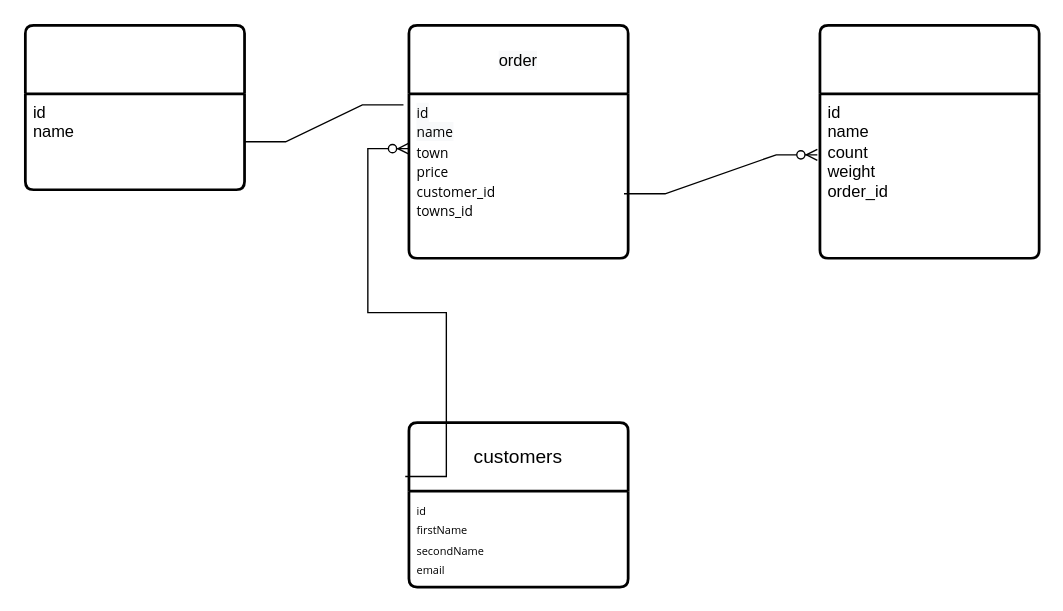
This 1063x611 diagram has some shape labels left out. The shapes that lost their labels are listed below. From the top down, each one's box as (x1, y1, x2, y2) in pixels, then its label:
(23, 23, 245, 190): towns
(818, 23, 1040, 259): items
